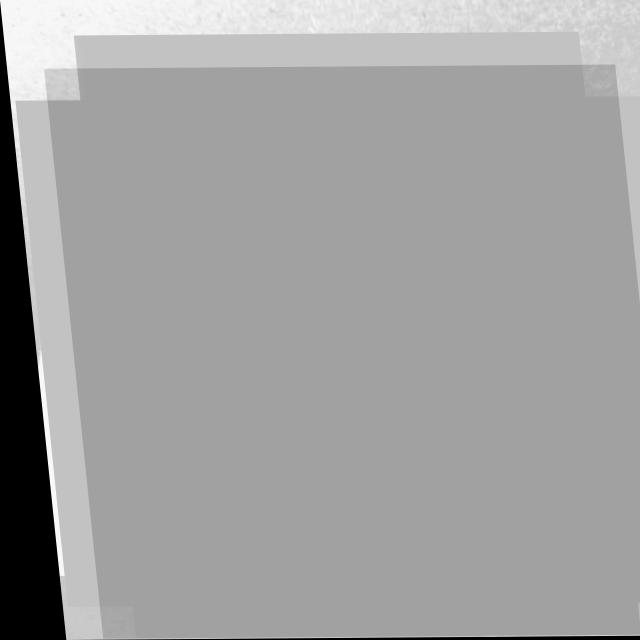qr_code: (43, 65, 640, 639)
